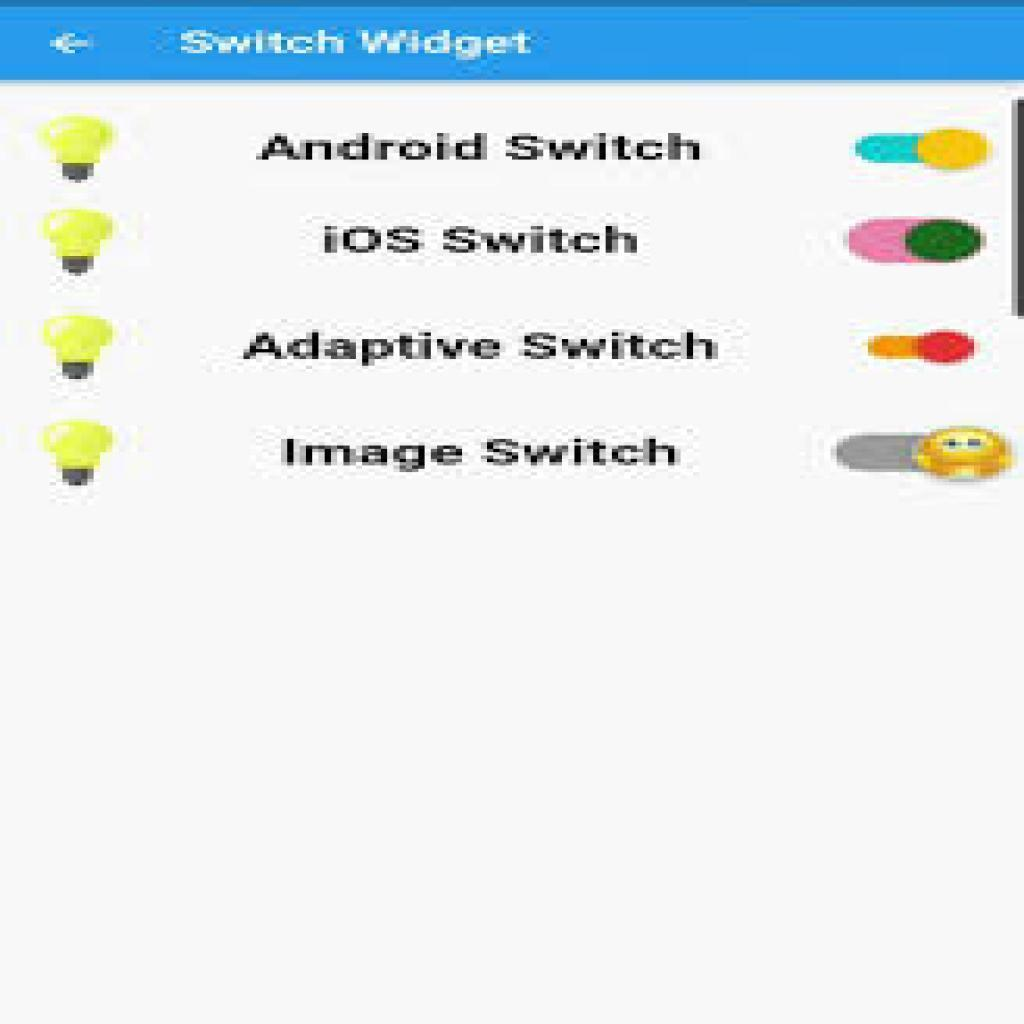label: (223, 318, 725, 374), (273, 423, 689, 485), (248, 126, 710, 177), (313, 218, 649, 266)
switch: (827, 427, 1011, 485), (840, 213, 988, 268), (848, 121, 994, 174), (859, 328, 980, 373)
